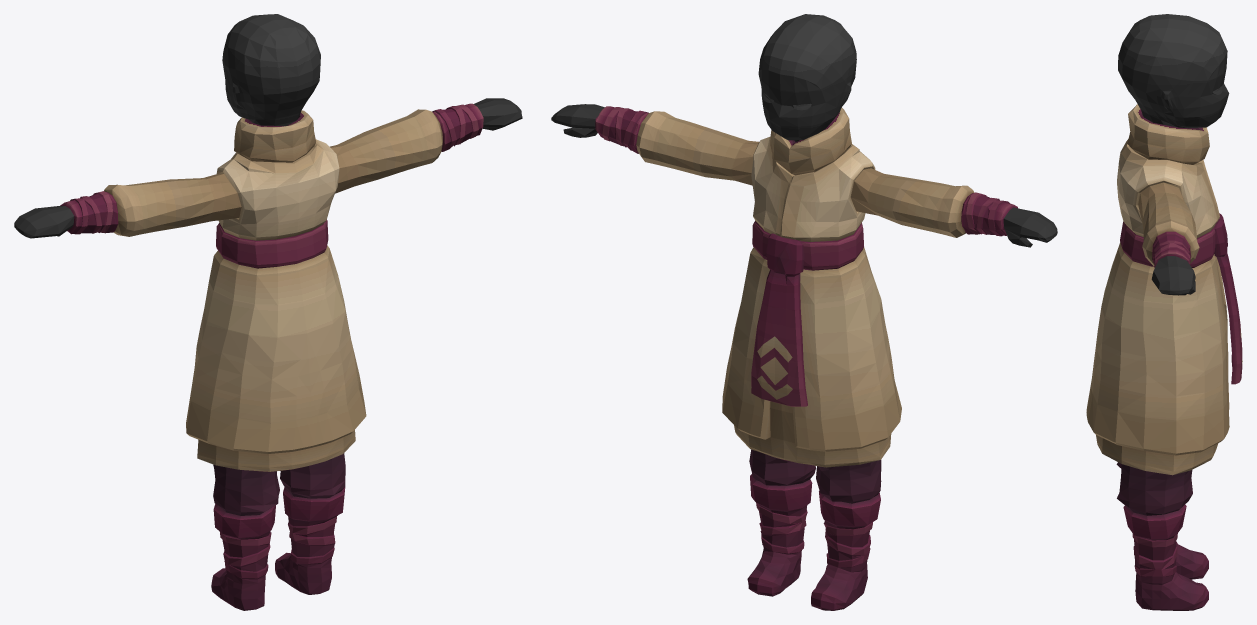
The model's file is CharSkyKid_Body_AP18LightRobe.glb.
The picture shows the model from 3 angles, left to right: view 1: azimuth 30°, elevation 25°; view 2: azimuth 150°, elevation 25°; view 3: azimuth 270°, elevation 25°; orthographic projection.
Visible parts, largest first — view 1: CharSkyKid_Body_AP18LightRobe; view 2: CharSkyKid_Body_AP18LightRobe; view 3: CharSkyKid_Body_AP18LightRobe.
Part boxes in pixels (x1=…): CharSkyKid_Body_AP18LightRobe: x1=14, y1=14, x2=522, y2=610; CharSkyKid_Body_AP18LightRobe: x1=551, y1=14, x2=1057, y2=610; CharSkyKid_Body_AP18LightRobe: x1=1086, y1=14, x2=1242, y2=610.
Bounding box in the file's own units: 13.7 × 14.93 × 3.71.
Materials: 1 (1 with a texture image).
